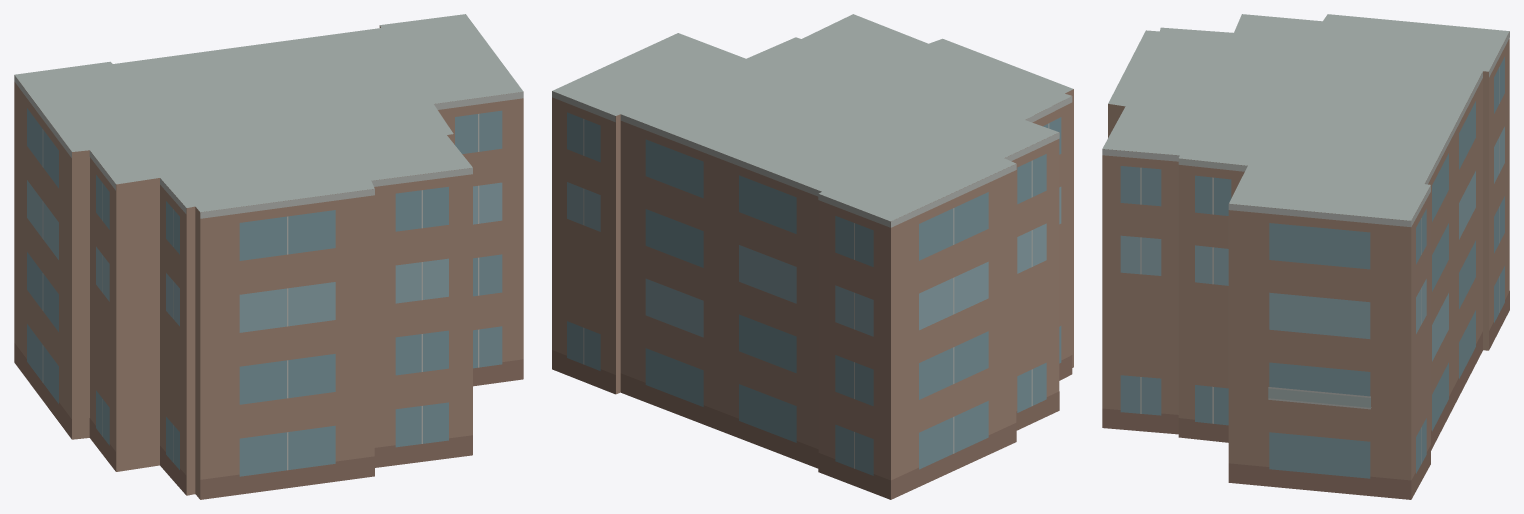
Rendered from survey-upis-32473429.glb.
The picture shows the model from 3 angles, left to right: view 1: azimuth 30°, elevation 25°; view 2: azimuth 150°, elevation 25°; view 3: azimuth 270°, elevation 25°; orthographic projection. The views are drawn at different scales.
Visible parts, largest first — view 1: survey-upis-32473429.tmp; view 2: survey-upis-32473429.tmp; view 3: survey-upis-32473429.tmp.
Boxes of the visible parts, bbox=[...] form: survey-upis-32473429.tmp: bbox=[14, 14, 523, 499]; survey-upis-32473429.tmp: bbox=[552, 14, 1073, 499]; survey-upis-32473429.tmp: bbox=[1102, 14, 1509, 499].
Bounding box in the file's own units: 17.02 × 10.7 × 14.17.
